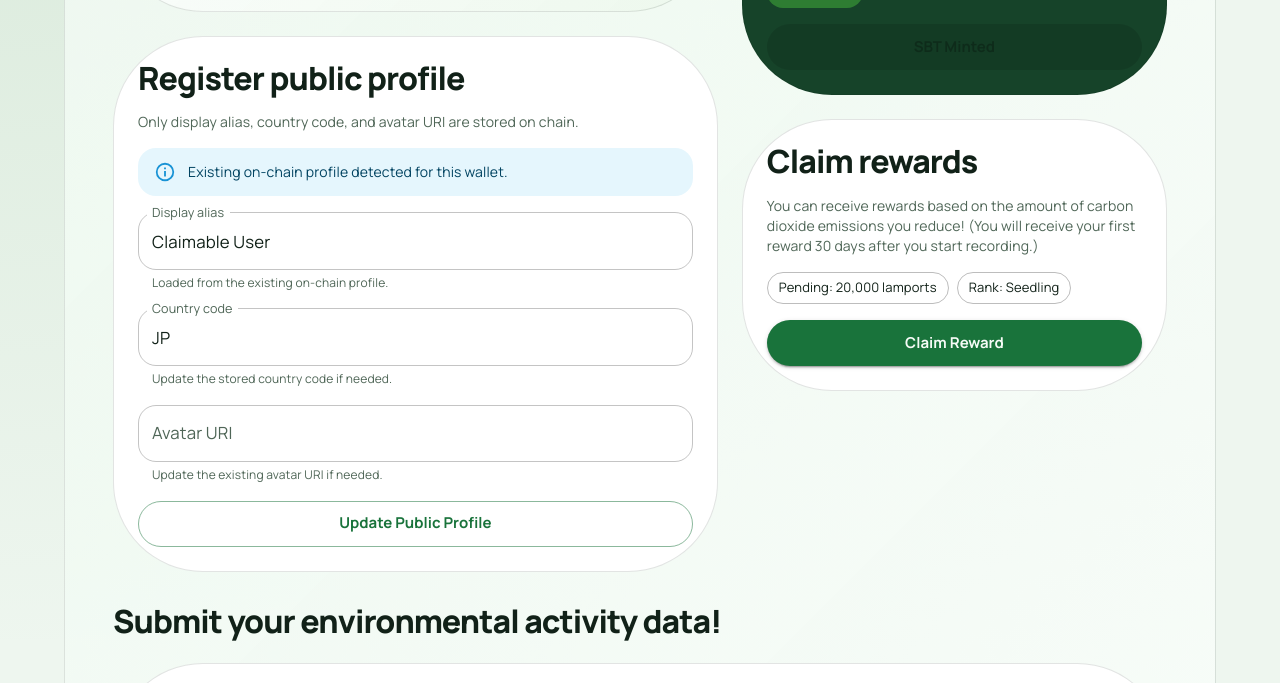
Scenario: wallet onboarding flow › claims rewards when the adapter reports claimable lamports
(page scrolled)
Click the button "Claim Reward": (954, 343) [767, 320, 1142, 366]
(page scrolled)
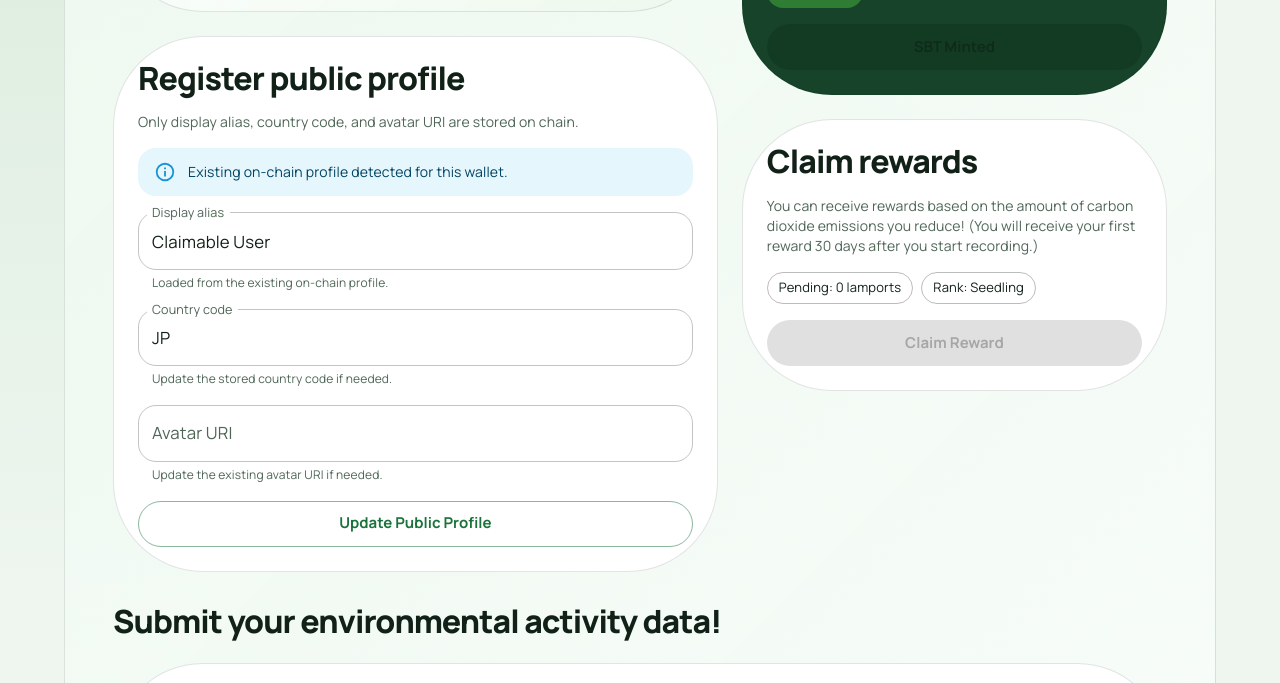
Now the text "Pending: 0 lamports" is shown, box [779, 278, 901, 296]
